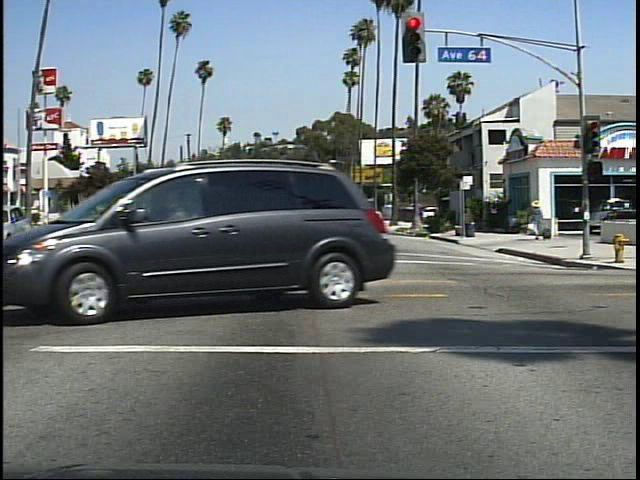person: (529, 195, 548, 246)
